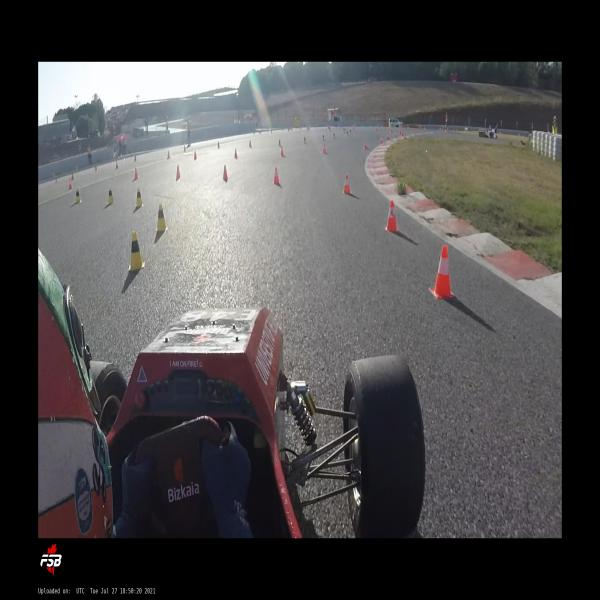orange_cone: (430, 245, 454, 298), (386, 200, 397, 231), (343, 175, 350, 194), (273, 167, 279, 184), (223, 164, 228, 180), (176, 165, 180, 178), (134, 168, 138, 179), (234, 148, 238, 158), (280, 147, 284, 157), (68, 179, 72, 189), (167, 150, 170, 159), (323, 144, 326, 153), (364, 141, 367, 149), (71, 173, 74, 180), (194, 150, 196, 160), (116, 161, 118, 169), (380, 138, 382, 143), (387, 135, 389, 140)
yellow_cone: (128, 231, 144, 270), (156, 204, 167, 231), (136, 188, 142, 207), (108, 188, 113, 204), (75, 188, 80, 203), (303, 136, 306, 144), (278, 138, 281, 146), (322, 134, 325, 141), (249, 139, 251, 147), (218, 140, 220, 148), (184, 144, 186, 152), (134, 156, 136, 162), (55, 177, 57, 183), (95, 166, 97, 171), (333, 133, 335, 138)
